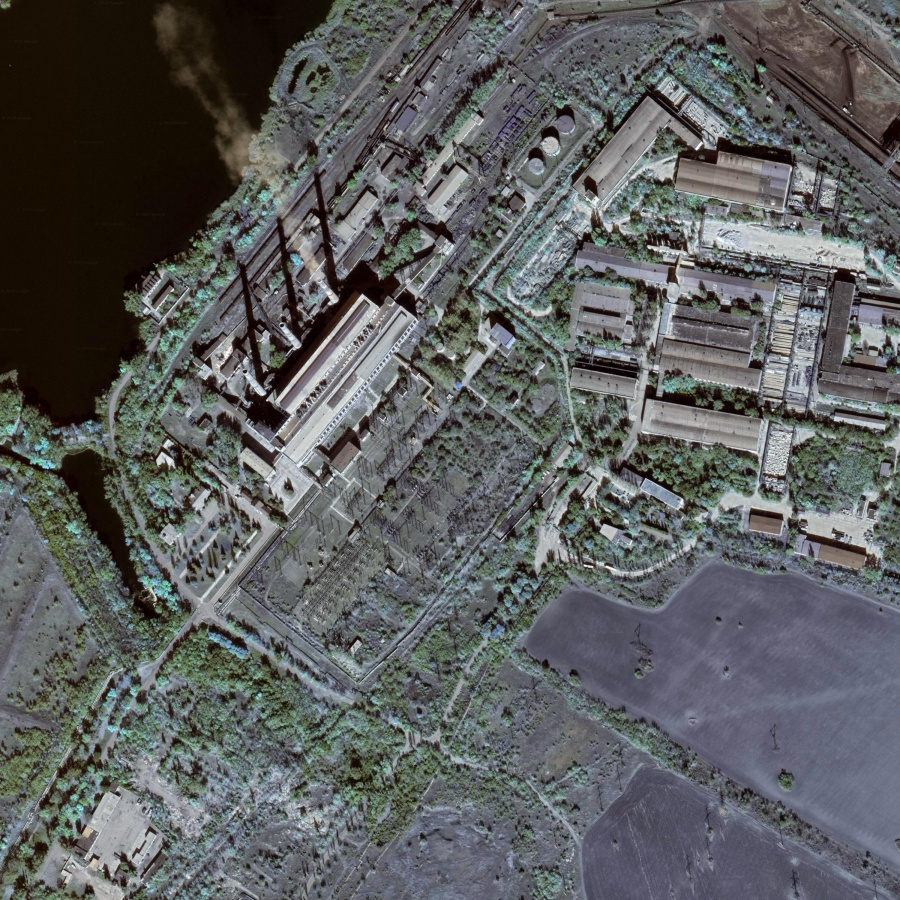PowerPlant: (202, 92, 567, 448)
